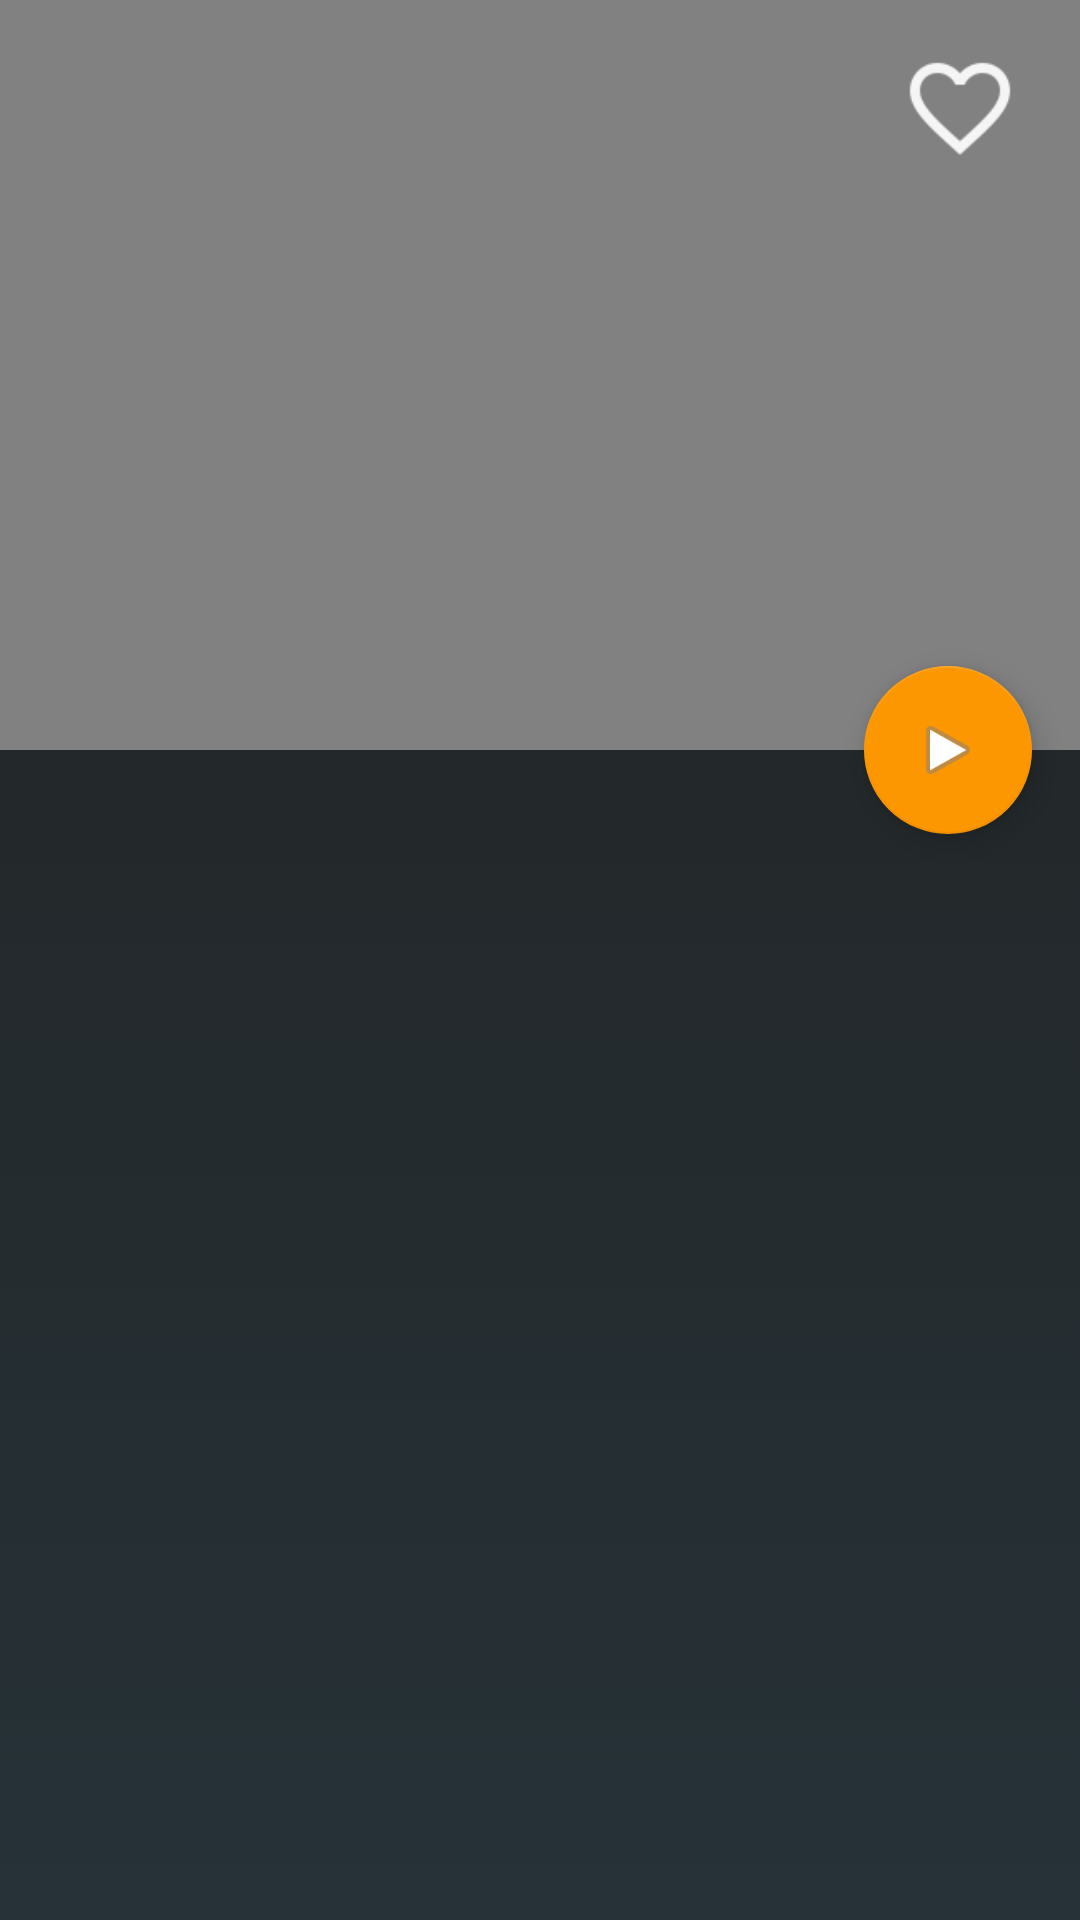

Point at icon controls on the screen. Image size 1080px x 1920px, points as point (x, y).
favorite no seleccion: point (960, 109)
play: point (948, 750)
